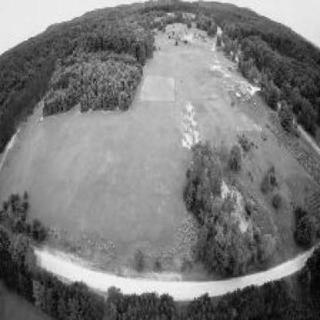other: (23, 235, 301, 297)
